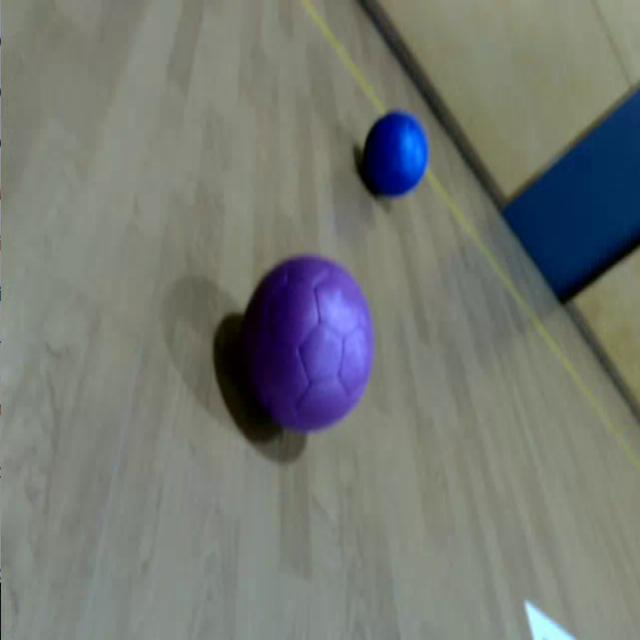blue_ball: (362, 112, 428, 201)
purple_ball: (240, 254, 377, 435)
